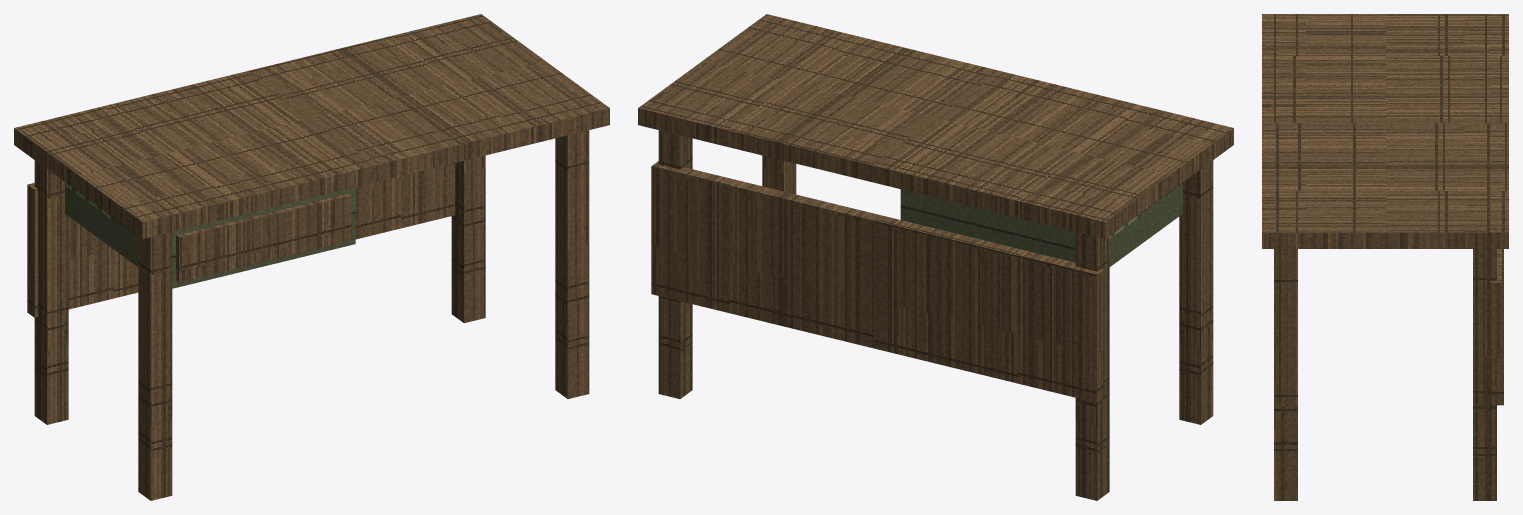
The model's file is fb_field_desk.glb.
3 views of the same model, side by side, from view 1: azimuth 30°, elevation 25°; view 2: azimuth 150°, elevation 25°; view 3: azimuth 270°, elevation 25° (orthographic). The views are drawn at different scales.
Visible parts, largest first — view 1: fb_field_desk; view 2: fb_field_desk; view 3: fb_field_desk.
Part boxes in pixels (left/top/right/bottom): fb_field_desk: left=14, top=14, right=609, bottom=500; fb_field_desk: left=638, top=14, right=1233, bottom=500; fb_field_desk: left=1262, top=14, right=1508, bottom=500.
Size of what is drawn, in the model's own units: 1.3 by 0.7625 by 0.62.
Materials: 2 (2 with a texture image).
